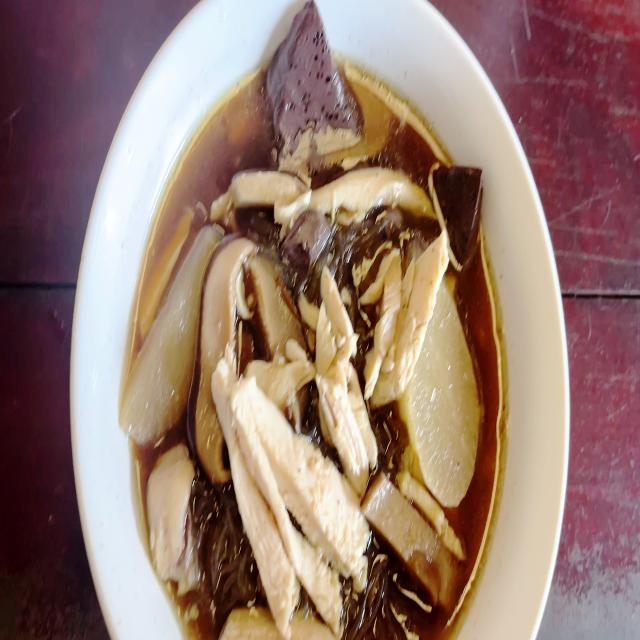boiled_chicken_blood_jelly: (260, 0, 358, 152), (436, 156, 491, 256), (285, 215, 330, 272)
chicken_shredded: (217, 358, 366, 618), (316, 259, 369, 485), (374, 235, 444, 391), (302, 164, 429, 222), (144, 446, 200, 577), (219, 162, 307, 220)
daikon_radish: (114, 216, 203, 444), (413, 301, 475, 507)
noodle: (124, 67, 505, 640)
